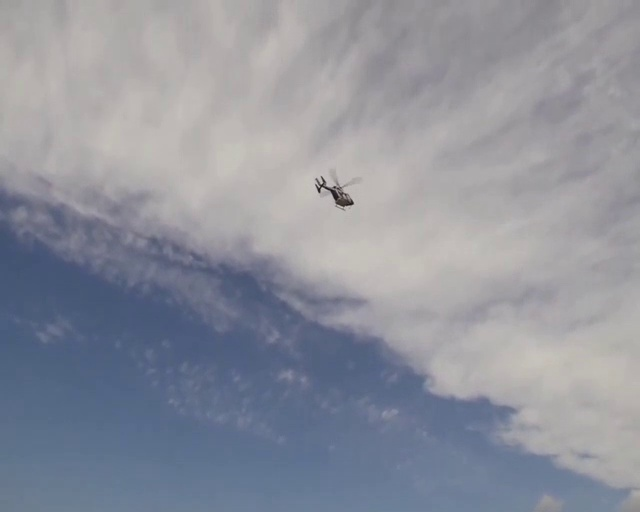HELICOPTER: (314, 168, 363, 211)
